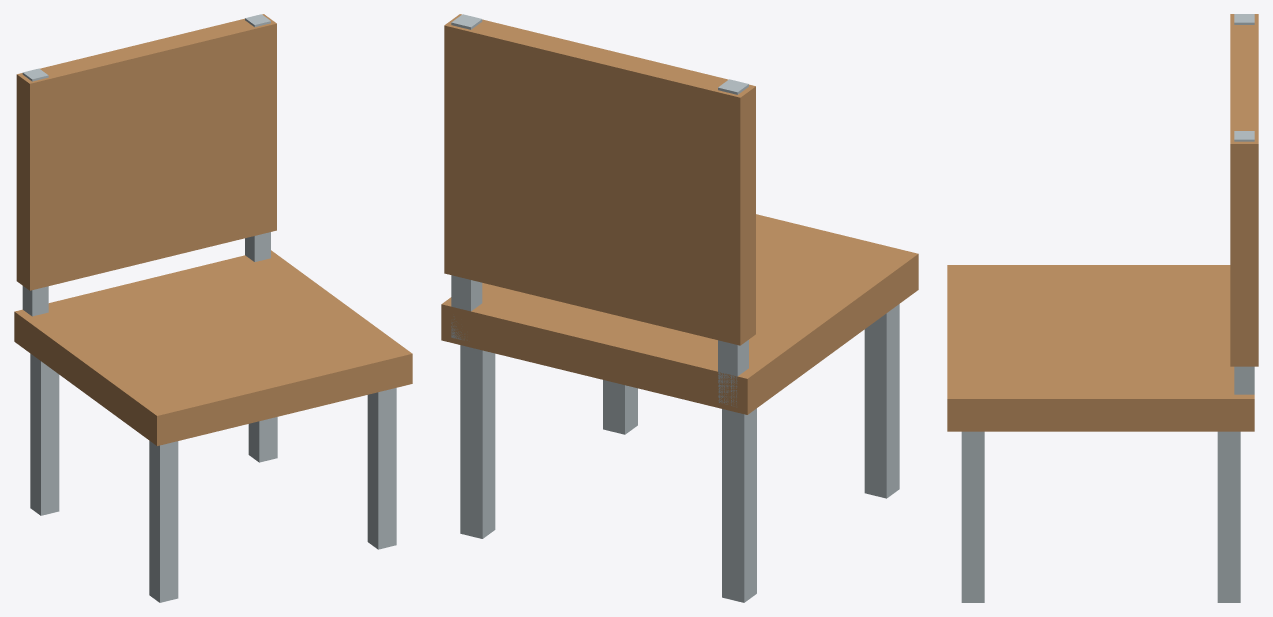
The model's file is lecture-chair-module.lod1.glb.
The picture shows the model from 3 angles, left to right: view 1: azimuth 30°, elevation 25°; view 2: azimuth 150°, elevation 25°; view 3: azimuth 270°, elevation 25°; orthographic projection. The views are drawn at different scales.
Parts seen in each view (by area): view 1: furniture-batch-EXPORT_interior-oak-veneer-0, furniture-batch-EXPORT_landmark-brushed-aluminum-1; view 2: furniture-batch-EXPORT_interior-oak-veneer-0, furniture-batch-EXPORT_landmark-brushed-aluminum-1; view 3: furniture-batch-EXPORT_interior-oak-veneer-0, furniture-batch-EXPORT_landmark-brushed-aluminum-1.
Boxes of the visible parts, left/top/right/bottom form: furniture-batch-EXPORT_interior-oak-veneer-0: left=14, top=14, right=412, bottom=445; furniture-batch-EXPORT_landmark-brushed-aluminum-1: left=22, top=14, right=396, bottom=602; furniture-batch-EXPORT_interior-oak-veneer-0: left=441, top=14, right=918, bottom=414; furniture-batch-EXPORT_landmark-brushed-aluminum-1: left=451, top=14, right=899, bottom=602; furniture-batch-EXPORT_interior-oak-veneer-0: left=947, top=14, right=1258, bottom=431; furniture-batch-EXPORT_landmark-brushed-aluminum-1: left=961, top=14, right=1254, bottom=602.
Size of the model in its own units: 0.62 by 1 by 0.6075.
